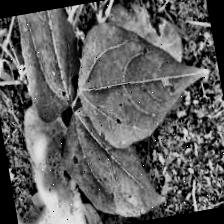ALS: (68, 16, 207, 151), (53, 96, 164, 218)
